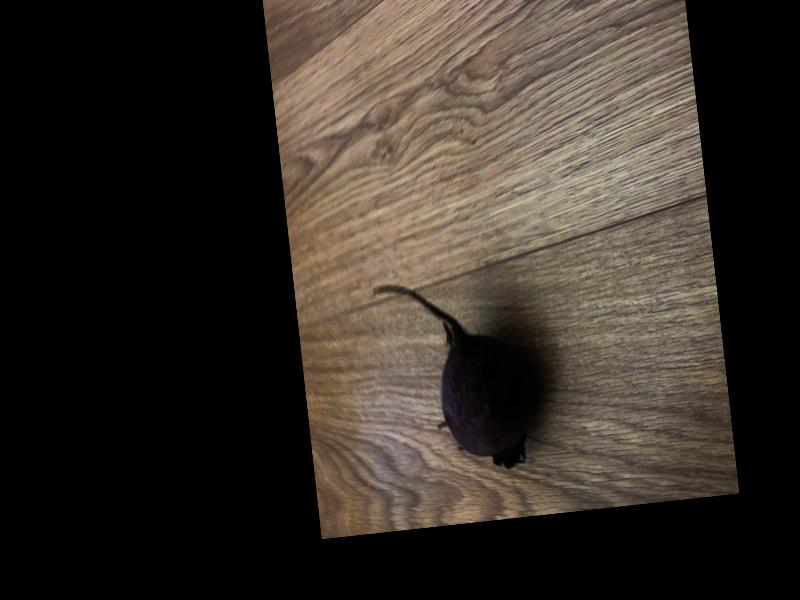Beet: (372, 267, 539, 477)
